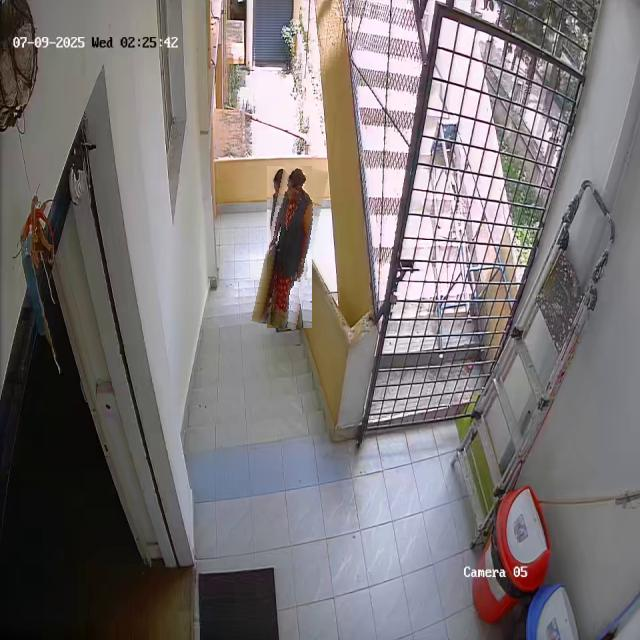person: (259, 165, 320, 329)
